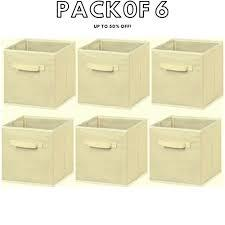cube: (151, 37, 225, 108), (150, 115, 225, 185), (1, 115, 74, 184), (4, 37, 76, 106), (79, 39, 151, 107), (78, 116, 146, 186)
